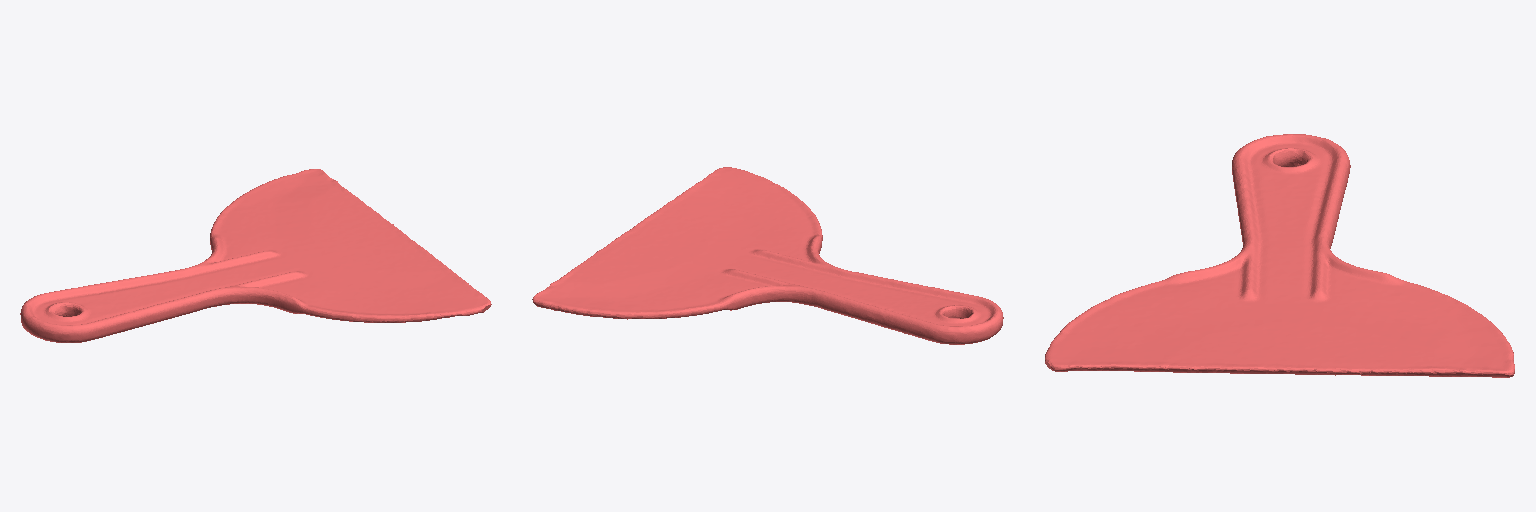
URDF robot description (model.urdf):
<robot name="model.urdf">
    <link name="baseLink">
        <contact>
            <lateral_friction value="0.4"/>
            <rolling_friction value="0.001"/>
            <spinning_friction value="0.001"/>
            <contact_cfm value="0.0"/>
            <contact_erp value="1.0"/>
        </contact>
        <inertial>
            <origin rpy="0 0 0" xyz="0 0 0."/>
            <mass value="1.5"/>
            <inertia ixx="1e-3" ixy="0" ixz="0" iyy="1e-3" iyz="0" izz="1e-3"/>
        </inertial>
        <visual>
            <geometry>
                <mesh filename="nontextured.stl" scale="1 1 1"/>
            </geometry>
            <material name="black">
                <color rgba="1.0 0.5 0.5 1"/>
            </material>
        </visual>
        <collision>
            <geometry>
                <mesh filename="nontextured.stl" scale="1 1 1"/>
            </geometry>
        </collision>
    </link>
</robot>

--- Facts derived from the render (not from the file) ---
The picture shows the robot from 3 angles, left to right: view 1: azimuth 30°, elevation 25°; view 2: azimuth 150°, elevation 25°; view 3: azimuth 270°, elevation 25°; orthographic projection.
Model model.urdf with 1 links and 0 joints (none), rooted at baseLink, posed every joint at zero.
Visible links, largest first — view 1: baseLink; view 2: baseLink; view 3: baseLink.
Link boxes in pixels (<box>): baseLink: <box>20,169,491,342</box>; baseLink: <box>532,167,1003,344</box>; baseLink: <box>1045,134,1514,377</box>.
Bounding box of the posed robot: 0.1812 × 0.1544 × 0.0091 m (x, y, z).
Meshes: 1 distinct files referenced, 1 mesh visuals loaded (1 binary STL).